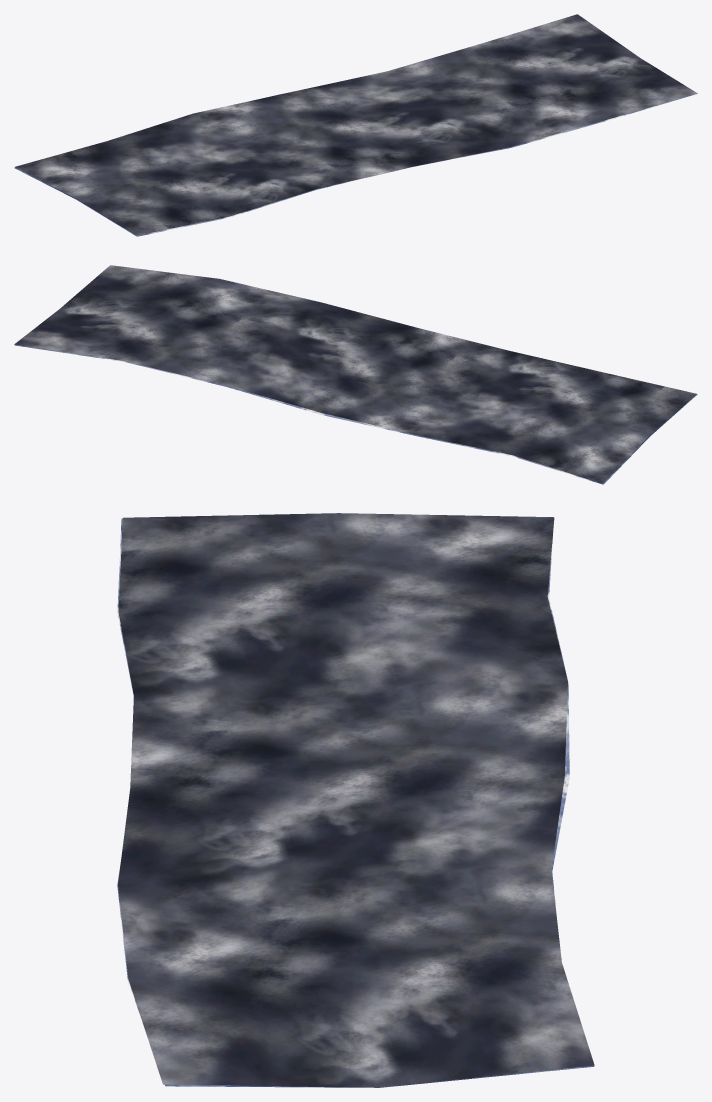
Rendered from LONE_MOUNTAIN_WATERFALLS_MAIN_WATER_CENTER02.fbx.
3 renders of one model, top to bottom at view 1: azimuth 30°, elevation 25°; view 2: azimuth 150°, elevation 25°; view 3: azimuth 270°, elevation 25°, orthographic. The views are drawn at different scales.
Parts seen in each view (by area): view 1: LONE_MOUNTAIN_WATERFALLS_MAIN_WATER_CENTER02; view 2: LONE_MOUNTAIN_WATERFALLS_MAIN_WATER_CENTER02; view 3: LONE_MOUNTAIN_WATERFALLS_MAIN_WATER_CENTER02.
Boxes of the visible parts, box(x1,y1,x2,y2) form: LONE_MOUNTAIN_WATERFALLS_MAIN_WATER_CENTER02: box(14, 14, 697, 236); LONE_MOUNTAIN_WATERFALLS_MAIN_WATER_CENTER02: box(14, 265, 697, 484); LONE_MOUNTAIN_WATERFALLS_MAIN_WATER_CENTER02: box(117, 513, 594, 1087).
Bounding box in the file's own units: 167919 × 3266 × 59198.
Materials: 2 (2 with a texture image).
